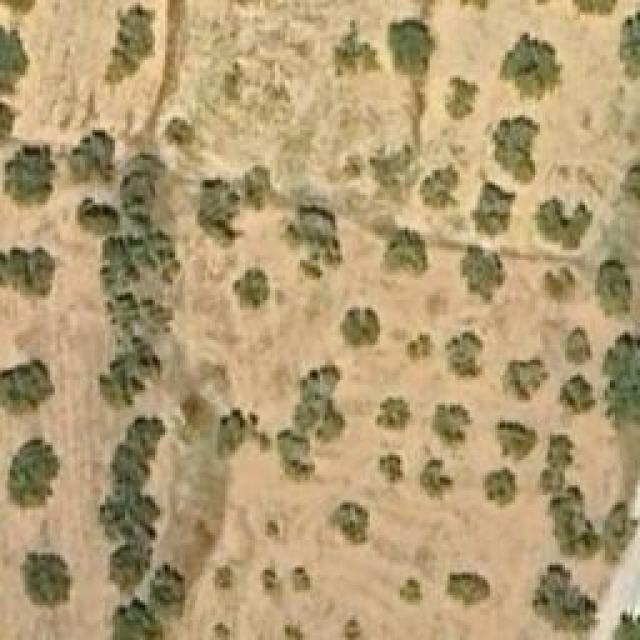Tree: (497, 30, 565, 103), (98, 337, 163, 405), (533, 562, 598, 630), (482, 115, 540, 183), (105, 5, 155, 83), (295, 365, 345, 435), (0, 248, 55, 311), (293, 200, 346, 265), (602, 333, 640, 423), (8, 440, 58, 508), (533, 195, 593, 250), (548, 493, 598, 556), (0, 360, 55, 415), (5, 145, 55, 205), (333, 20, 383, 80), (20, 553, 70, 608), (198, 180, 238, 248), (67, 130, 115, 183), (463, 245, 506, 303), (218, 410, 271, 455), (380, 228, 430, 273), (502, 358, 550, 403), (475, 183, 515, 236), (595, 260, 633, 315), (390, 20, 433, 68), (108, 540, 151, 585), (603, 500, 636, 558), (432, 400, 470, 450), (340, 308, 383, 351), (0, 28, 28, 93), (115, 598, 160, 638), (328, 503, 368, 546), (442, 75, 480, 120), (420, 165, 458, 208), (615, 10, 640, 75), (498, 420, 538, 460), (448, 333, 483, 378), (75, 197, 115, 235), (235, 265, 270, 308), (150, 563, 185, 606), (445, 573, 490, 606), (560, 373, 595, 413), (375, 395, 410, 430), (420, 460, 455, 495), (165, 113, 198, 148), (485, 467, 515, 505), (565, 327, 593, 365), (545, 268, 575, 298), (408, 332, 433, 360), (380, 453, 403, 483), (622, 165, 640, 203), (340, 615, 365, 640), (617, 615, 640, 640), (285, 612, 305, 640), (400, 580, 423, 603), (295, 568, 310, 591)
